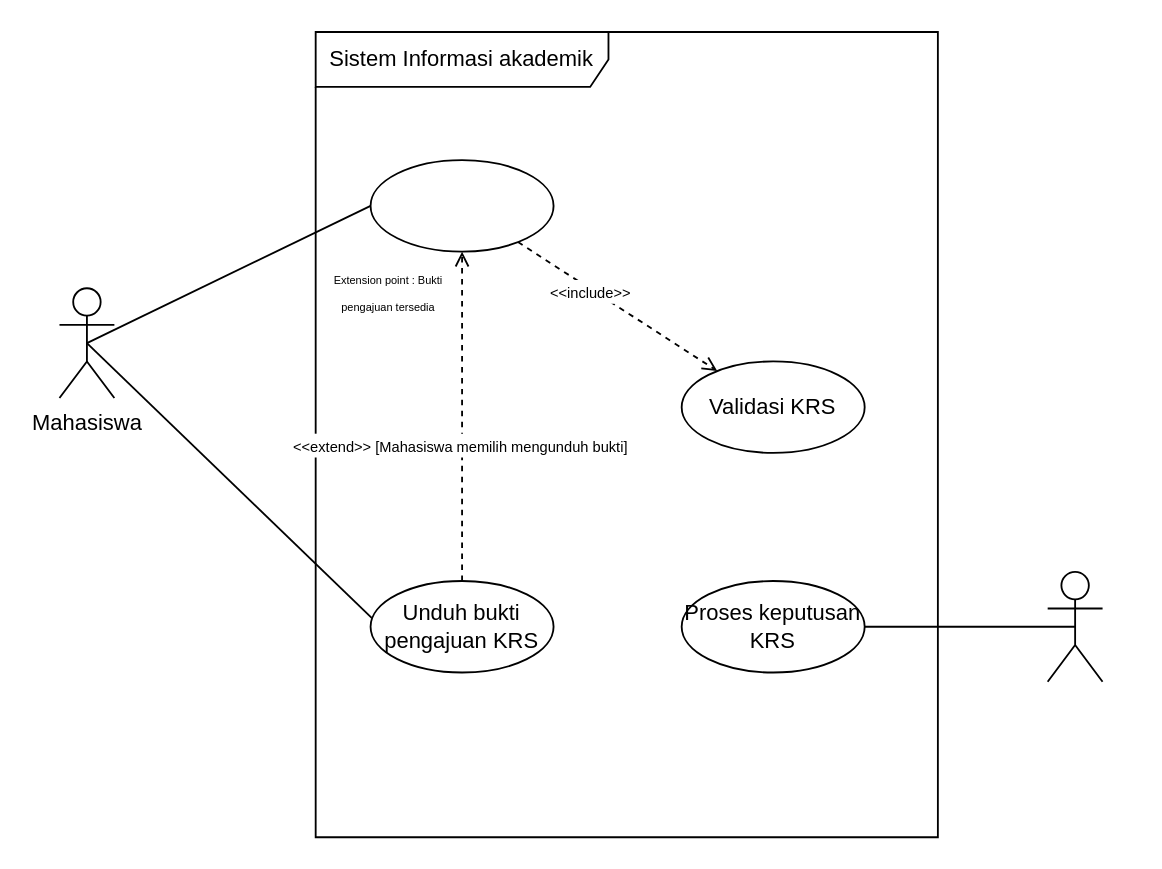
Image size: 1162x869. Some labels were removed from this diagram. The centre of each missing label's shape, as x and y in pixels:
Ajukan KRS: point 461,205
Dosen Wali: point 1074,626
